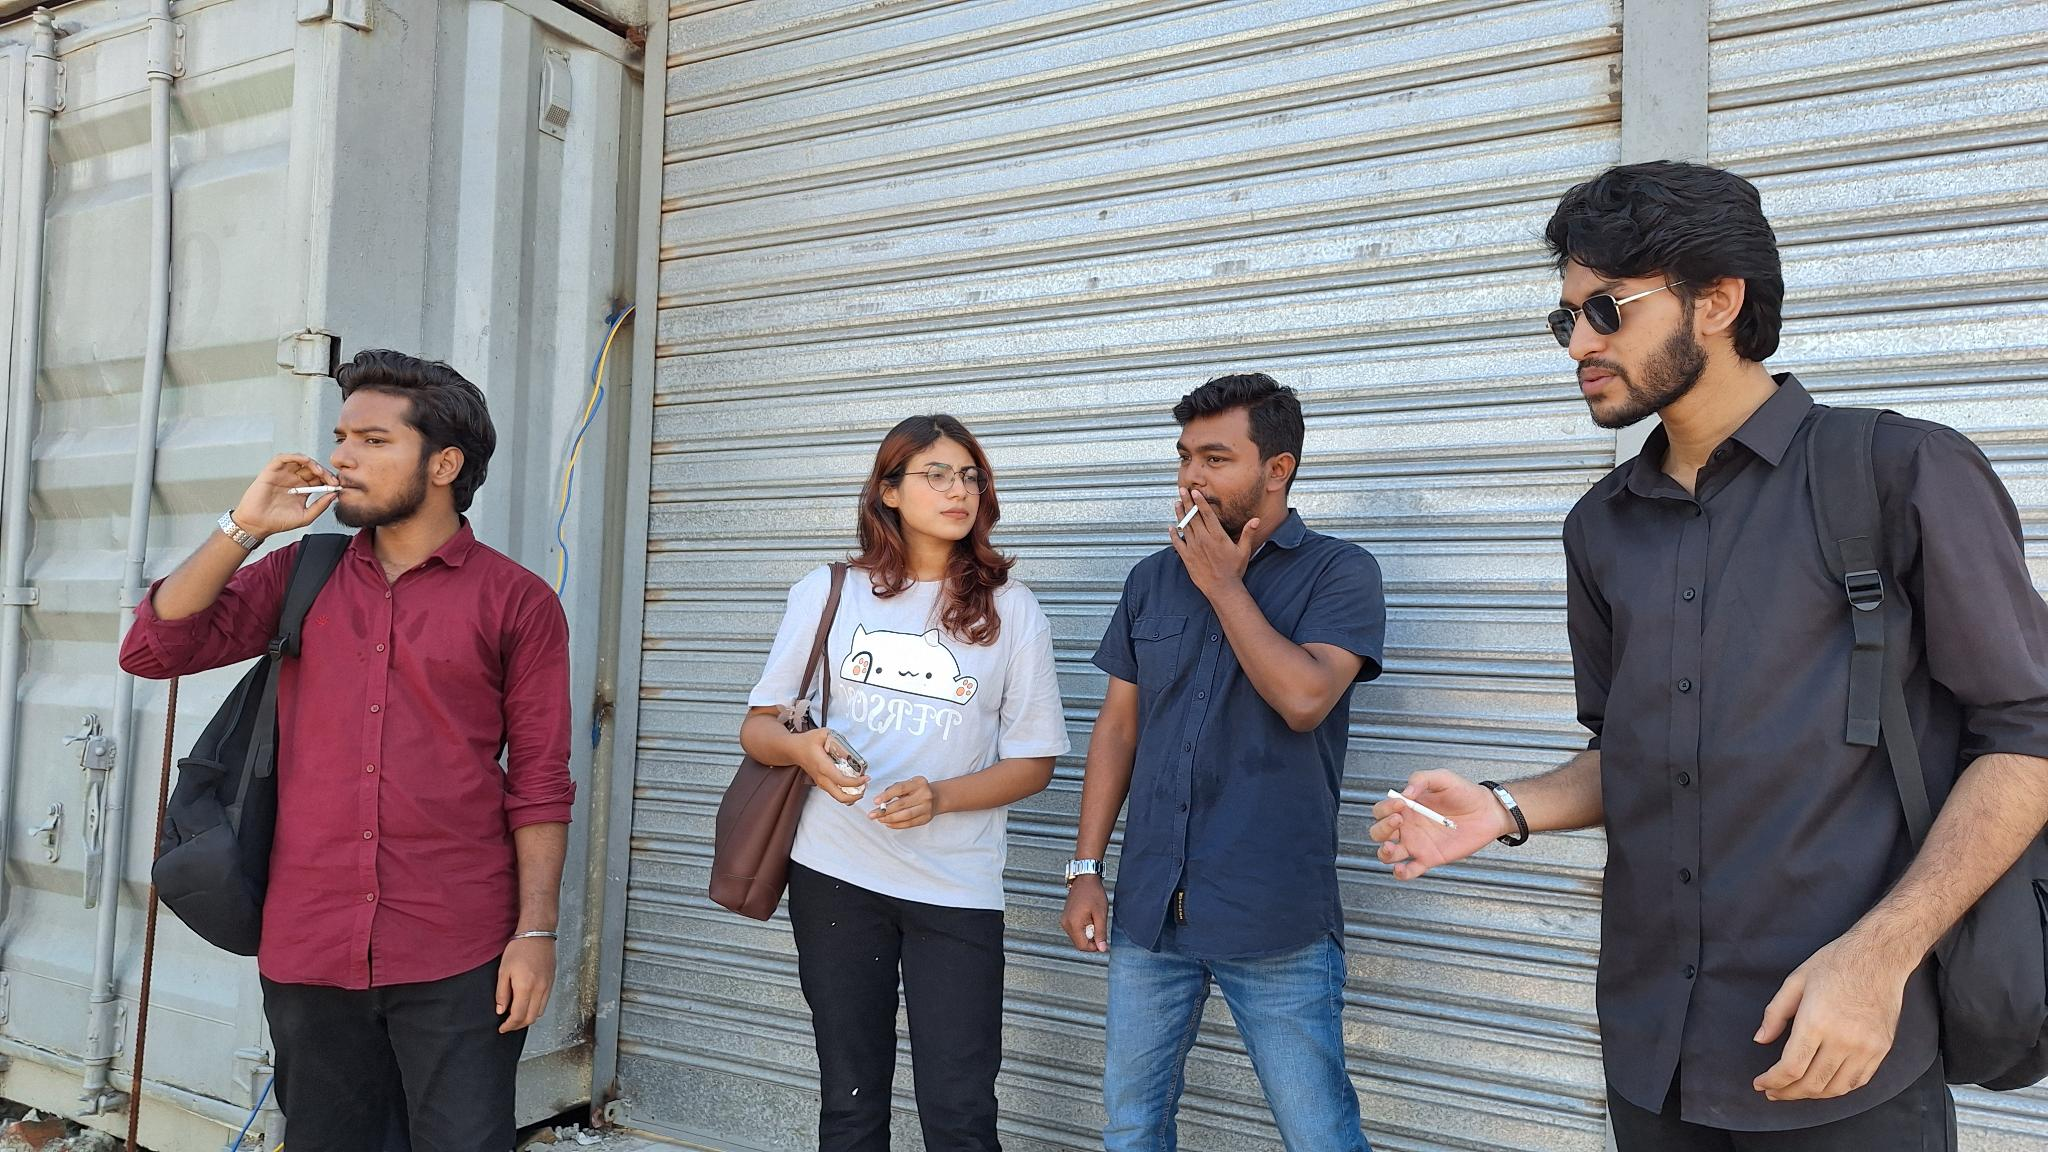cigarette: (1385, 788, 1460, 833), (286, 482, 345, 498), (1175, 502, 1200, 533), (879, 800, 888, 816)
smoker: (1369, 165, 2048, 1152), (120, 349, 578, 1152), (709, 414, 1072, 1152), (1059, 374, 1387, 1152)
